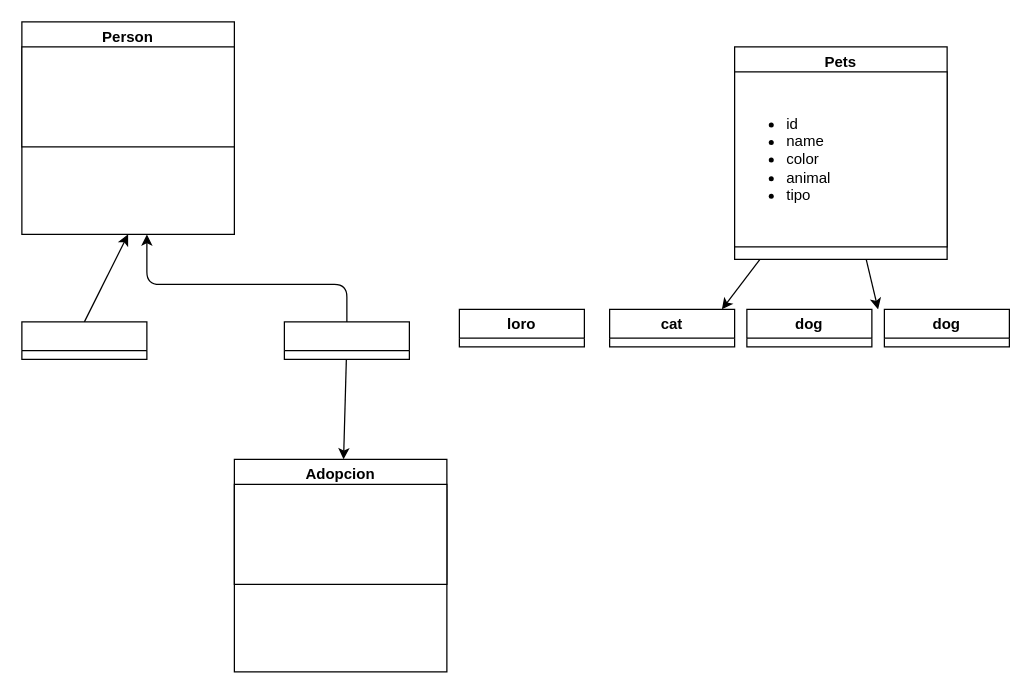
The diagram is 1031 pixels wide and 694 high, and some of its shapes have lost their labels. Here are the shapes that lost their labels. From the top down, the centre of each, then its label:
point 127,96: id name phone number
point 84,340: Cliente
point 346,340: Cuidador
point 340,533: pet type color
